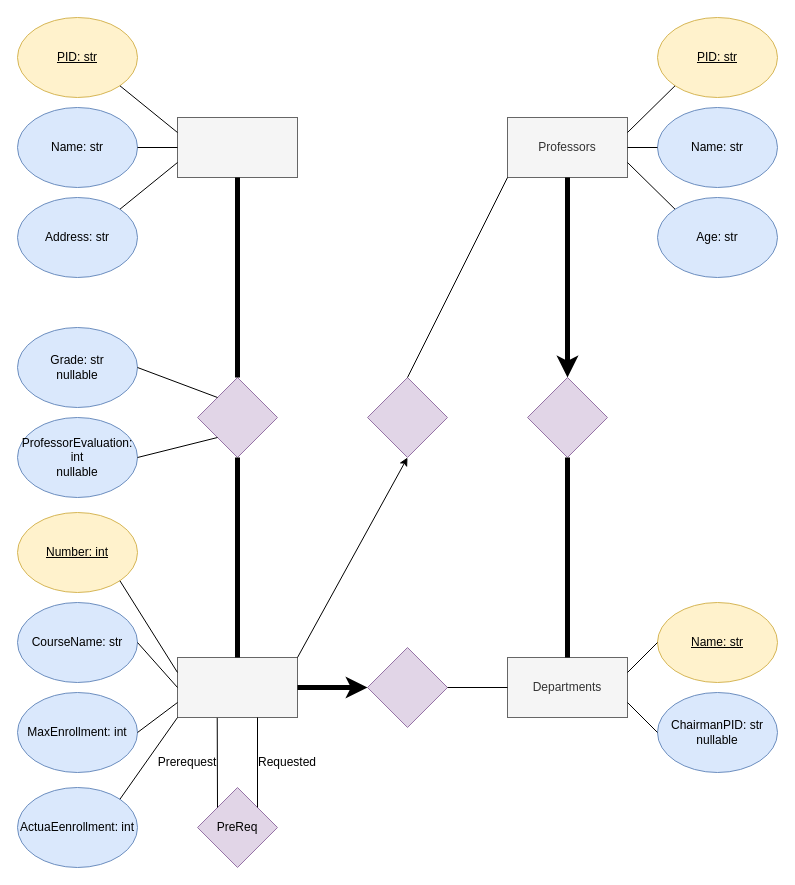
This 795x885 diagram has some shape labels left out. The centre of each missing label's shape, as x and y in pixels:
"BelongTo" belongs at pixel 567 417.
"Courses" belongs at pixel 237 687.
"Offer" belongs at pixel 407 687.
"Students" belongs at pixel 237 147.
"Take" belongs at pixel 237 417.
"Teach" belongs at pixel 407 417.
